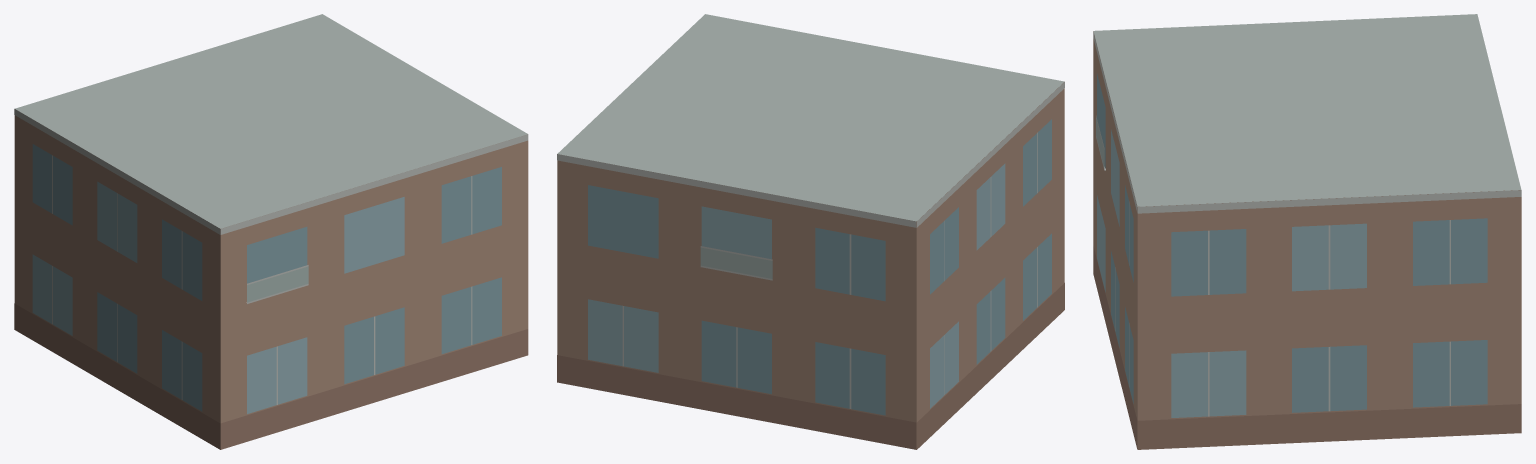
File: survey-upis-32844912.glb
3 renders of one model, left to right at view 1: azimuth 30°, elevation 25°; view 2: azimuth 150°, elevation 25°; view 3: azimuth 270°, elevation 25°, orthographic. The views are drawn at different scales.
Parts seen in each view (by area): view 1: survey-upis-32844912.tmp; view 2: survey-upis-32844912.tmp; view 3: survey-upis-32844912.tmp.
Boxes of the visible parts, x1,y1,x2,y2 form: survey-upis-32844912.tmp: (14,14,528,449); survey-upis-32844912.tmp: (557,14,1064,449); survey-upis-32844912.tmp: (1093,14,1521,449).
Size of the model in its own units: 14.69 by 8.63 by 13.79.
